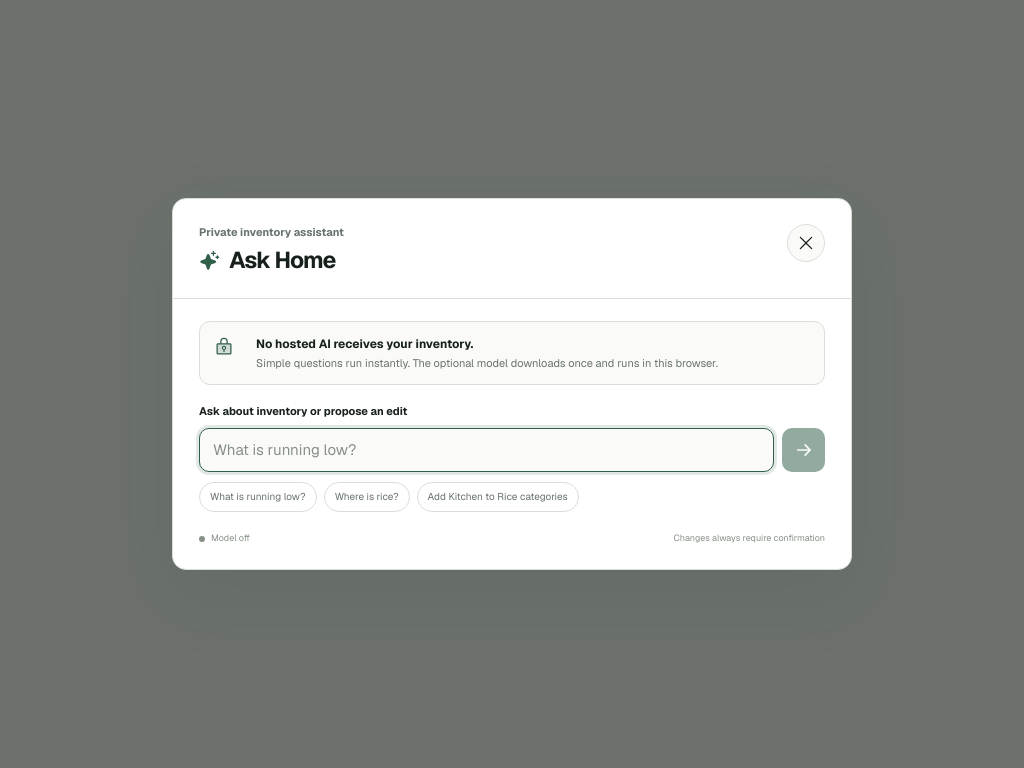
Scenario: InventoryAssistant › requires consent, shows progress, and confirms a generated proposal
This screenshot has width=1024, height=768.
Type "Rename Dish soap to Washing-up liquid" into the field labelled "Ask about inventory or propose an edit" at (486, 450), box 199,428 -> 774,472
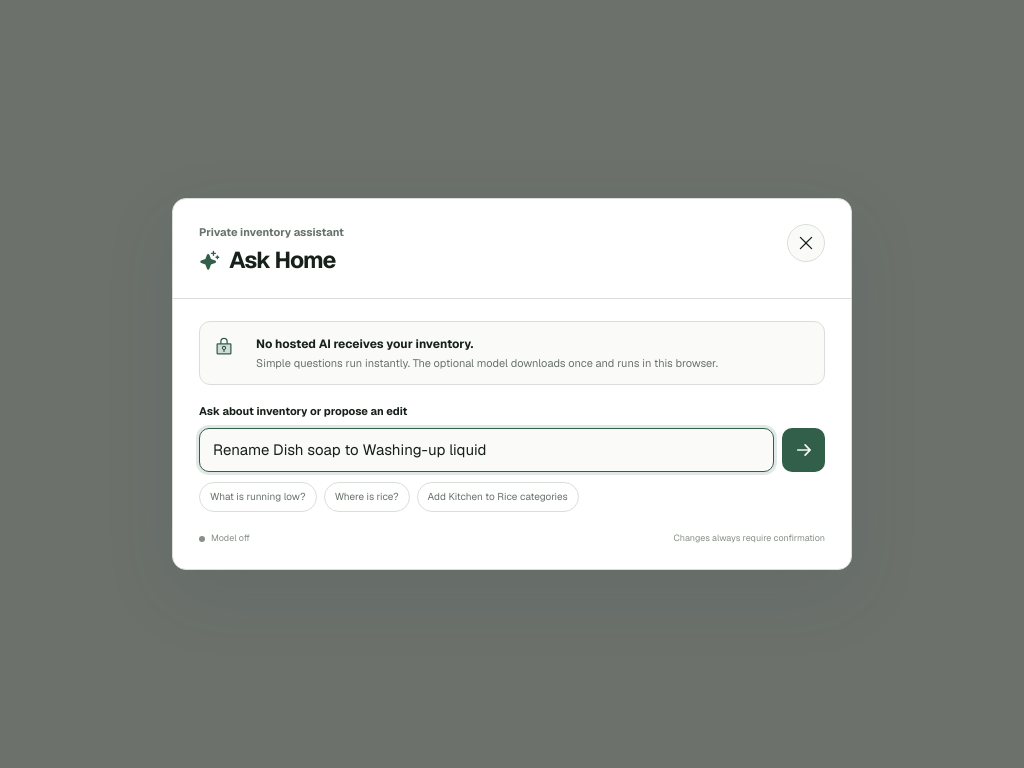
Click the button named "Ask Home" at (804, 450), box 782,428 -> 825,472
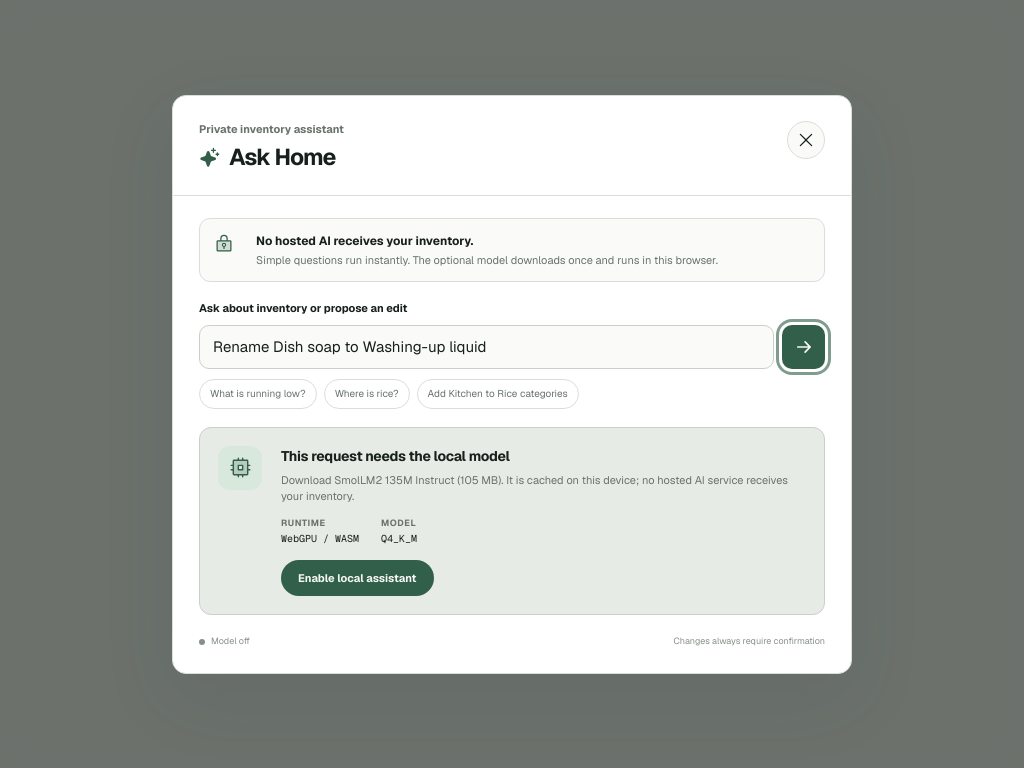
Result: the heading "This request needs the local model" is shown at 281,446 -> 510,464
Click the button "Enable local assistant" at (357, 578), box 281,560 -> 434,596
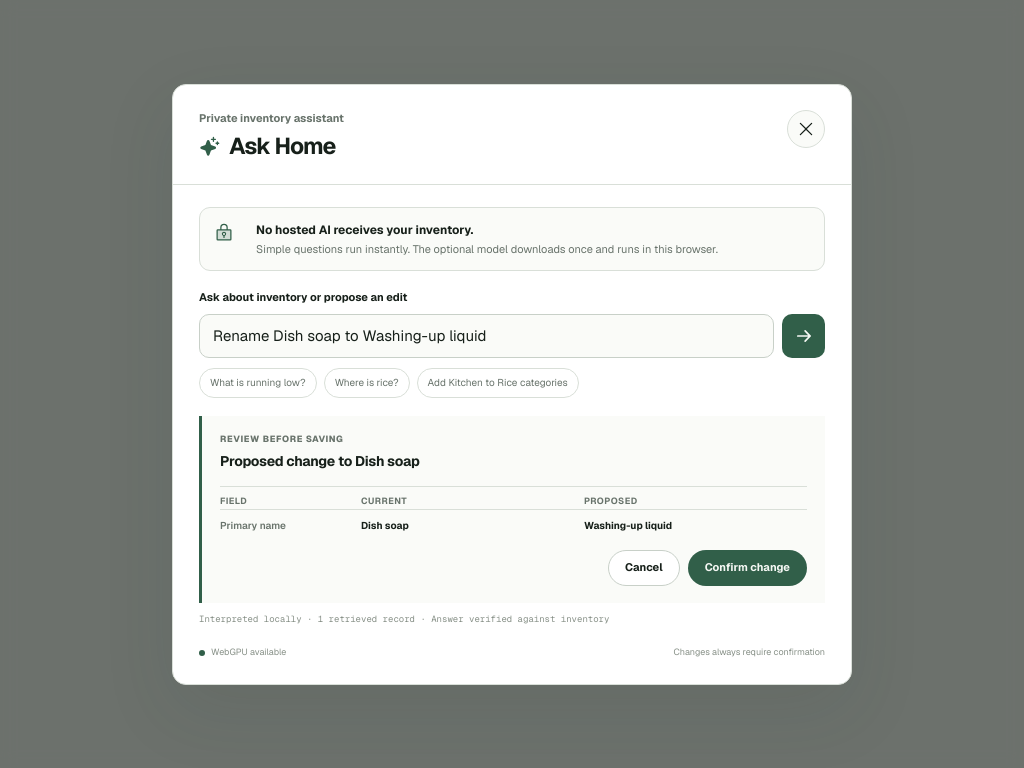
Result: the heading "Proposed change to Dish soap" is shown at 220,452 -> 420,470
Result: the text "Washing-up liquid" is shown at 584,509 -> 807,532
Result: the text "Interpreted locally · 1 retrieved record · Answer verified against inventory" is shown at 199,612 -> 609,624
Click the button "Confirm change" at (747, 568), box 688,550 -> 807,586
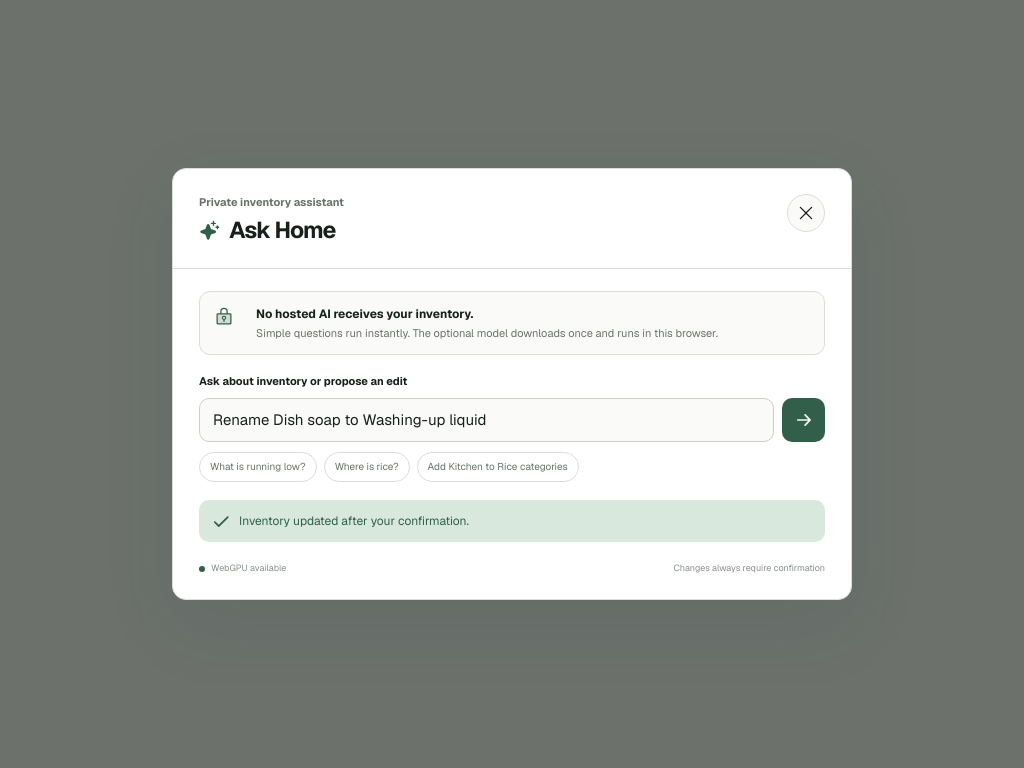
Result: the text "Inventory updated after your confirmation." is shown at 199,500 -> 825,542
